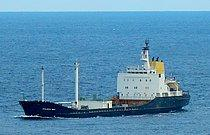Ship: (16, 38, 194, 117)
